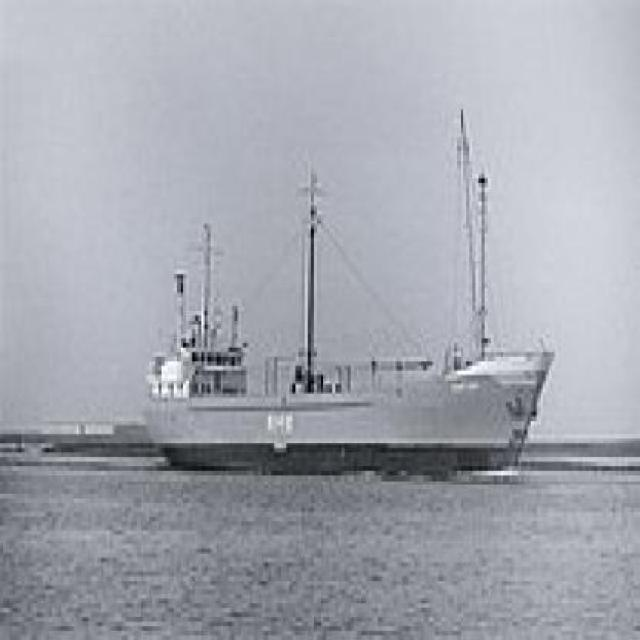container: (126, 124, 563, 481)
